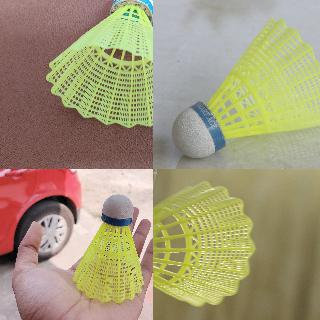shuttlecock: (171, 16, 319, 158), (47, 0, 152, 129), (153, 181, 256, 308), (73, 194, 144, 304)
